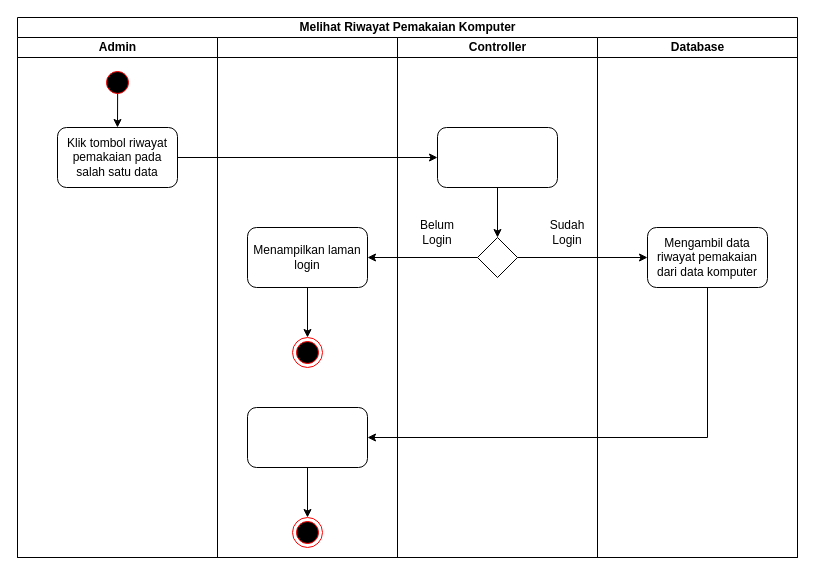
This 815x575 diagram has some shape labels left out. Here are the shapes that lost their labels. From the top down, the box of each, then its label:
(436, 126, 558, 188): Menerima permintaan akses detail riwayat pemakaian komputer
(216, 36, 398, 558): View
(246, 406, 368, 468): Menampilkan laman riwayat pemakaian komputer
